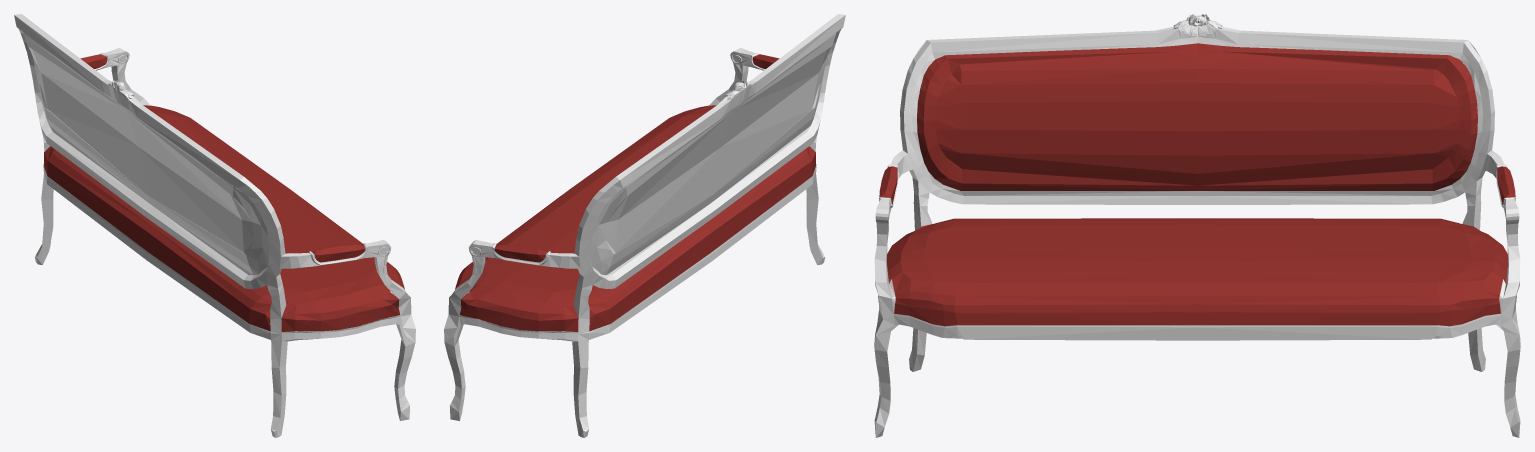
Rendered from chair2.obj.
3 views of the same model, side by side, from view 1: azimuth 30°, elevation 25°; view 2: azimuth 150°, elevation 25°; view 3: azimuth 270°, elevation 25° (orthographic). The views are drawn at different scales.
Parts seen in each view (by area): view 1: couch1; view 2: couch1; view 3: couch1.
Boxes of the visible parts, bbox=[...] form: couch1: bbox=[14, 14, 415, 437]; couch1: bbox=[444, 14, 845, 437]; couch1: bbox=[874, 14, 1520, 437].
Size of the model in its own units: 66.44 by 94.84 by 168.
